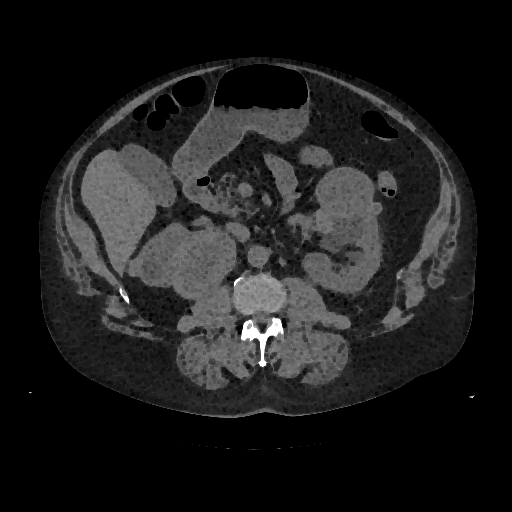Lesion: (173, 232, 239, 298)
